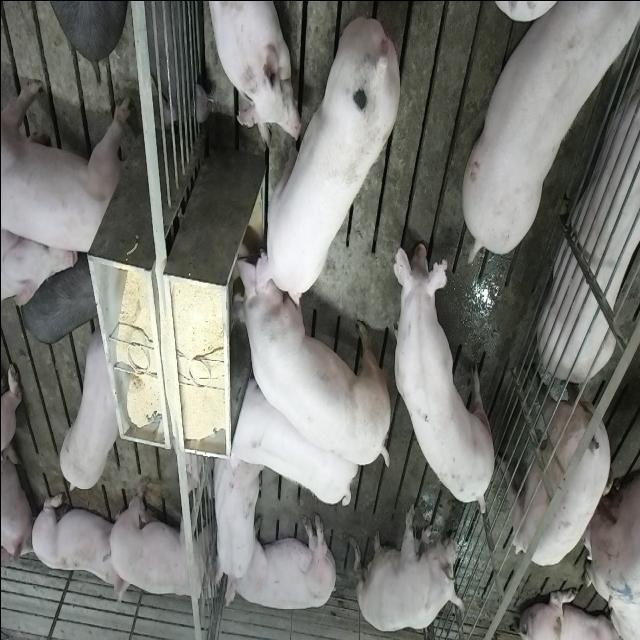Feeding: (247, 14, 402, 308), (224, 245, 388, 468)
Lateral_lying: (222, 512, 338, 612)
Sitting: (354, 503, 465, 633)
Standing: (459, 0, 634, 258), (394, 223, 497, 509), (2, 74, 128, 256), (508, 370, 618, 564), (228, 376, 358, 511), (106, 471, 220, 606), (54, 328, 120, 496), (19, 251, 99, 349)
Sternal_lying: (540, 40, 640, 386), (204, 0, 296, 145), (27, 485, 122, 605), (208, 449, 262, 593)
